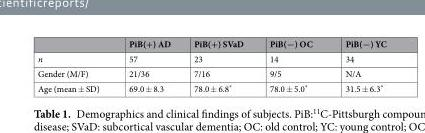table: (36, 37, 385, 94)
table column: (36, 37, 113, 94), (181, 37, 255, 94), (255, 37, 328, 94), (113, 37, 181, 94), (328, 37, 385, 94)
table column header: (36, 37, 385, 50)
table row: (36, 50, 385, 65), (36, 65, 385, 80), (36, 80, 385, 94), (36, 37, 385, 50)
